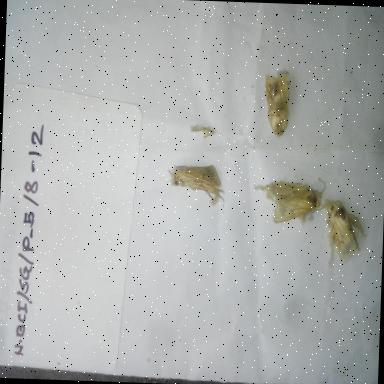abw: (320, 197, 370, 273), (253, 177, 325, 229), (164, 156, 232, 211), (256, 62, 296, 142)
